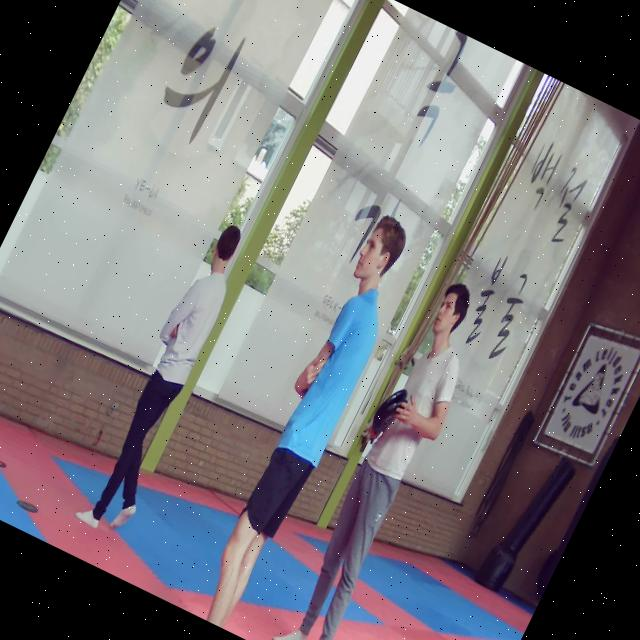paddle: (372, 388, 407, 435)
